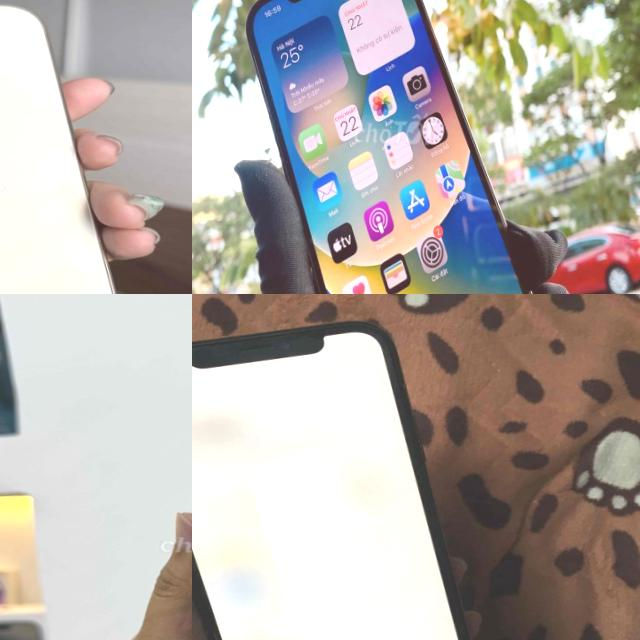gen_12_13: (231, 0, 551, 294), (0, 0, 157, 294)
gen_x_xs: (192, 308, 528, 640)
